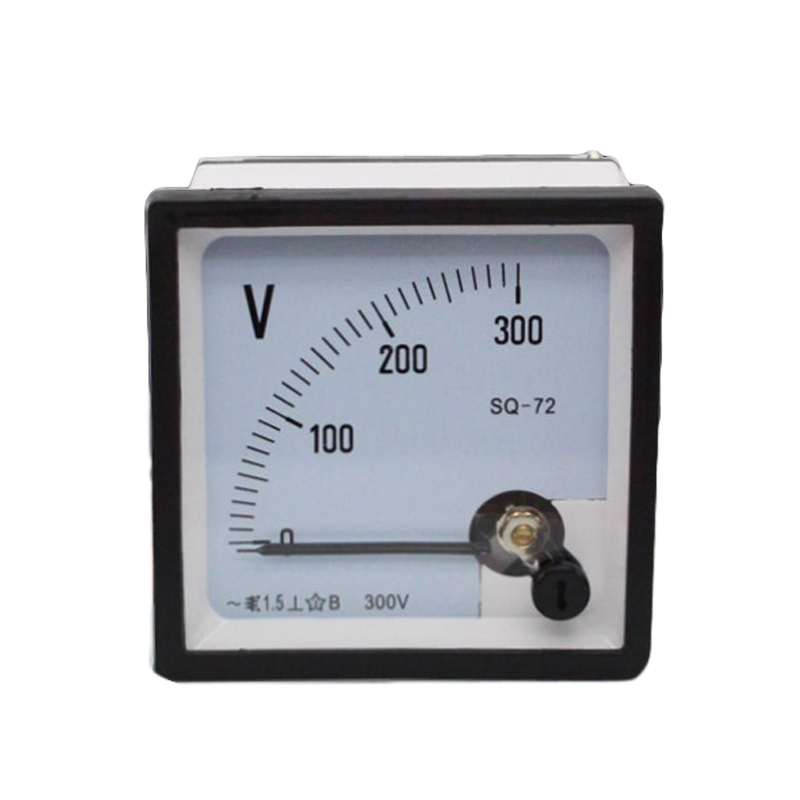pointer: (172, 228, 634, 650)
